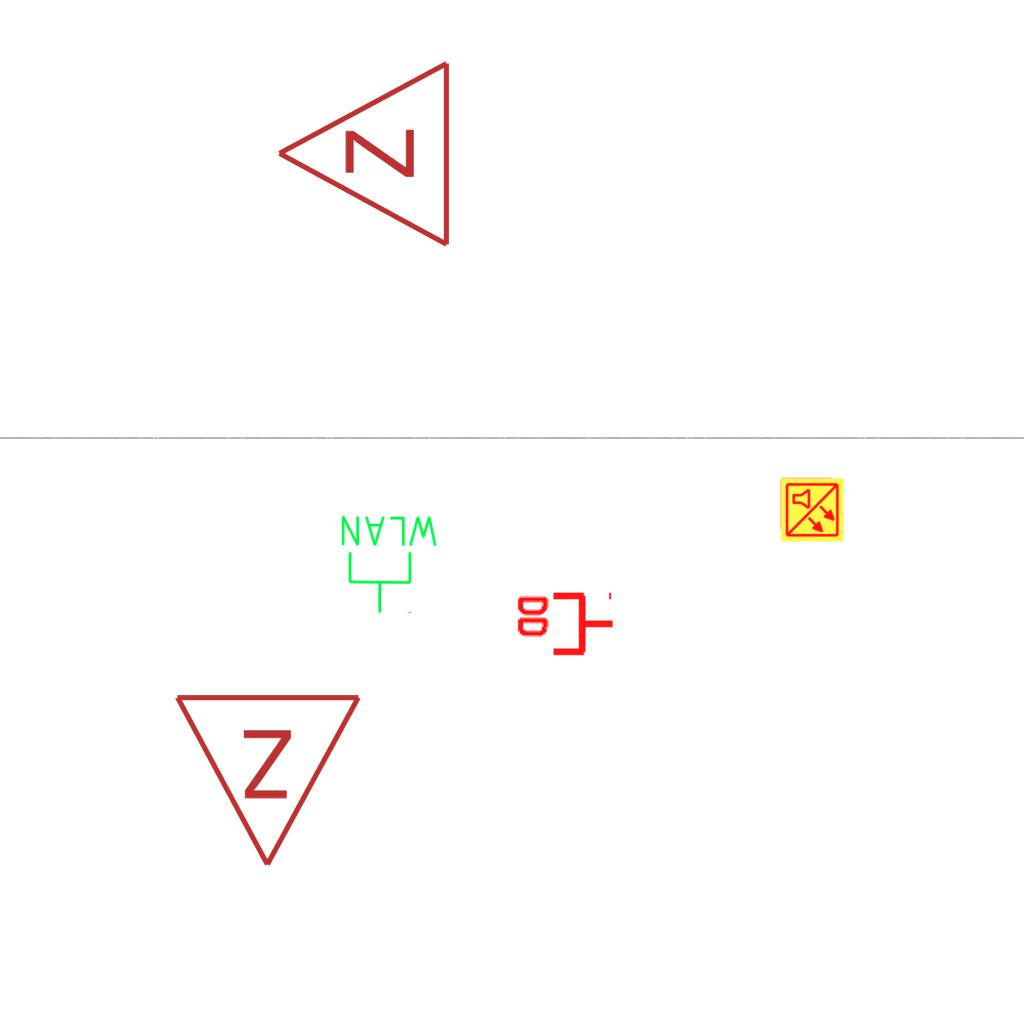Datenanschluss_zweifach: (513, 591, 616, 660)
OKW_Multisensormelder_(Kombination_optischer_Rauch-Kahlenmonoxid_Waerme-Melder): (779, 477, 845, 543)
WLAN: (337, 512, 442, 616)
Zimmersignalleuchte: (264, 58, 464, 254), (172, 680, 368, 880)
